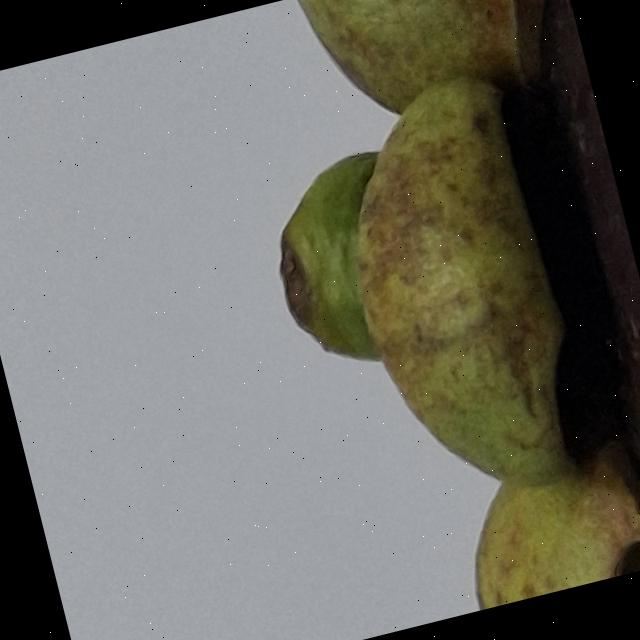mangosteen: (48, 0, 640, 640)
